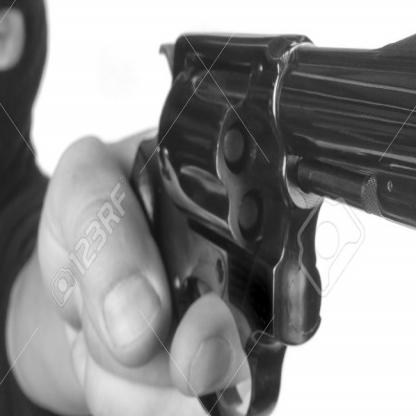gun: (90, 5, 416, 415)
